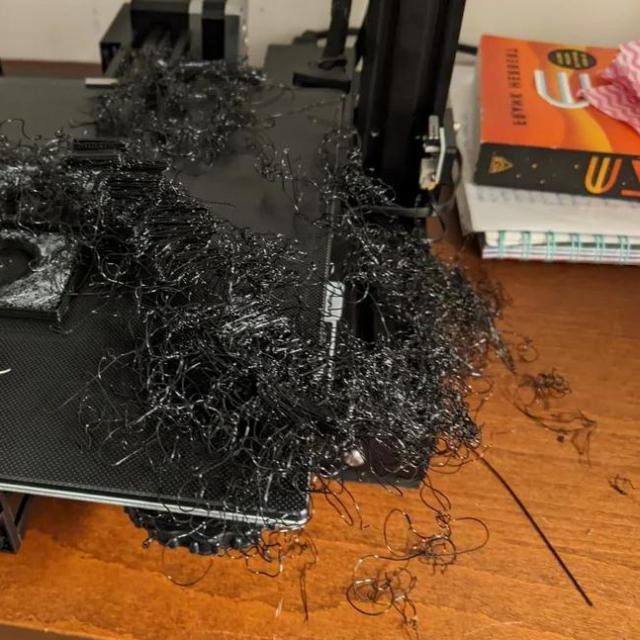Spaghetti: (332, 272, 488, 456), (118, 322, 248, 470), (106, 61, 252, 167), (84, 181, 198, 296), (238, 338, 336, 459), (182, 224, 297, 320), (311, 144, 395, 258), (8, 126, 78, 218)
